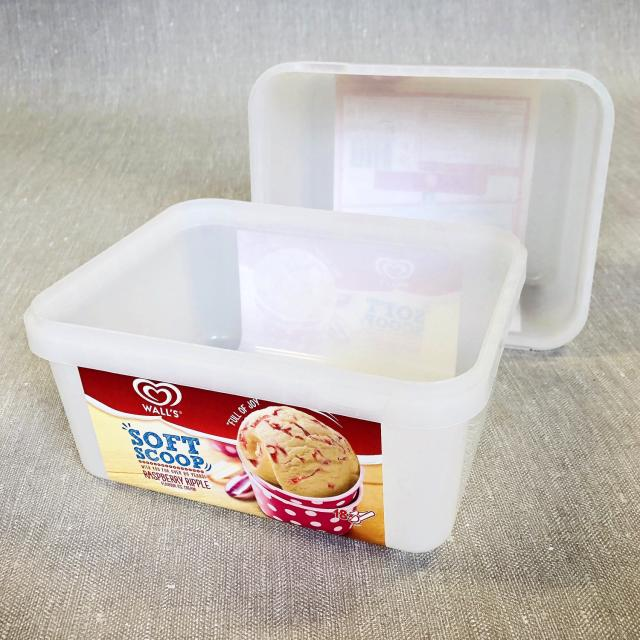plastic: (26, 198, 515, 552), (237, 56, 613, 348)
